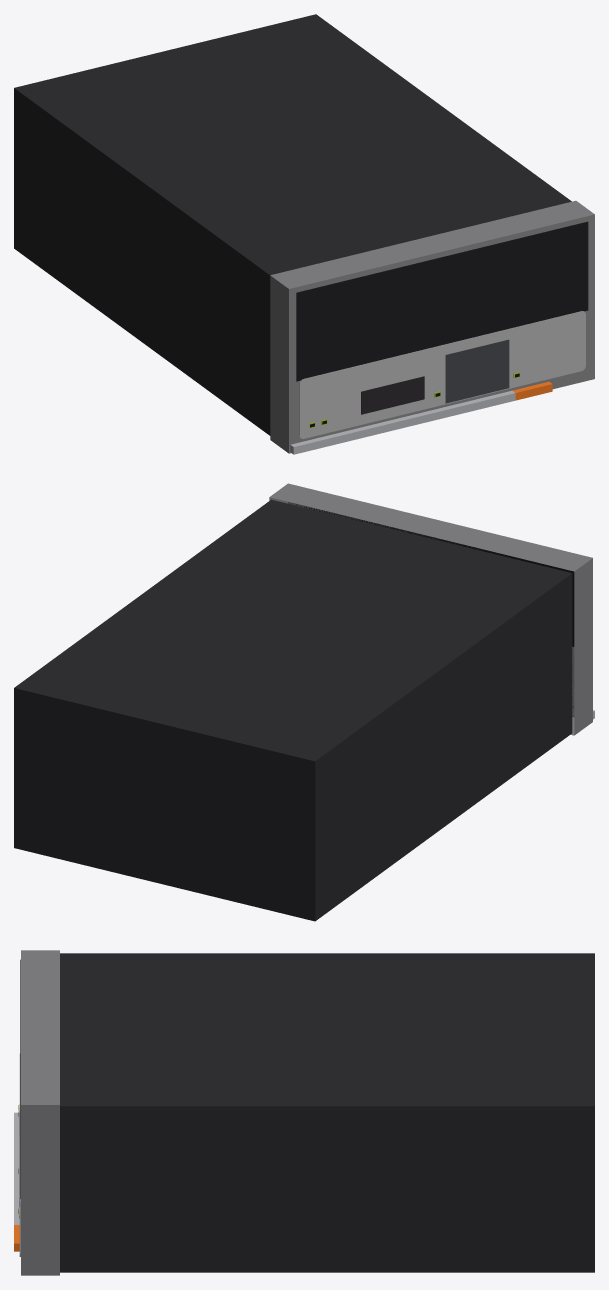
File: MD2412-EMM.far.glb
The picture shows the model from 3 angles, top to bottom: view 1: azimuth 30°, elevation 25°; view 2: azimuth 150°, elevation 25°; view 3: azimuth 270°, elevation 25°; orthographic projection. The views are drawn at different scales.
Visible parts, largest first — view 1: EMM_far; view 2: EMM_far; view 3: EMM_far.
Boxes of the visible parts, x1,y1,x2,y2 form: EMM_far: [14, 14, 594, 454]; EMM_far: [14, 483, 594, 921]; EMM_far: [14, 950, 594, 1275].
Bounding box in the file's own units: 0.1595 × 0.082 × 0.253.
Materials: 2 (1 with a texture image).
